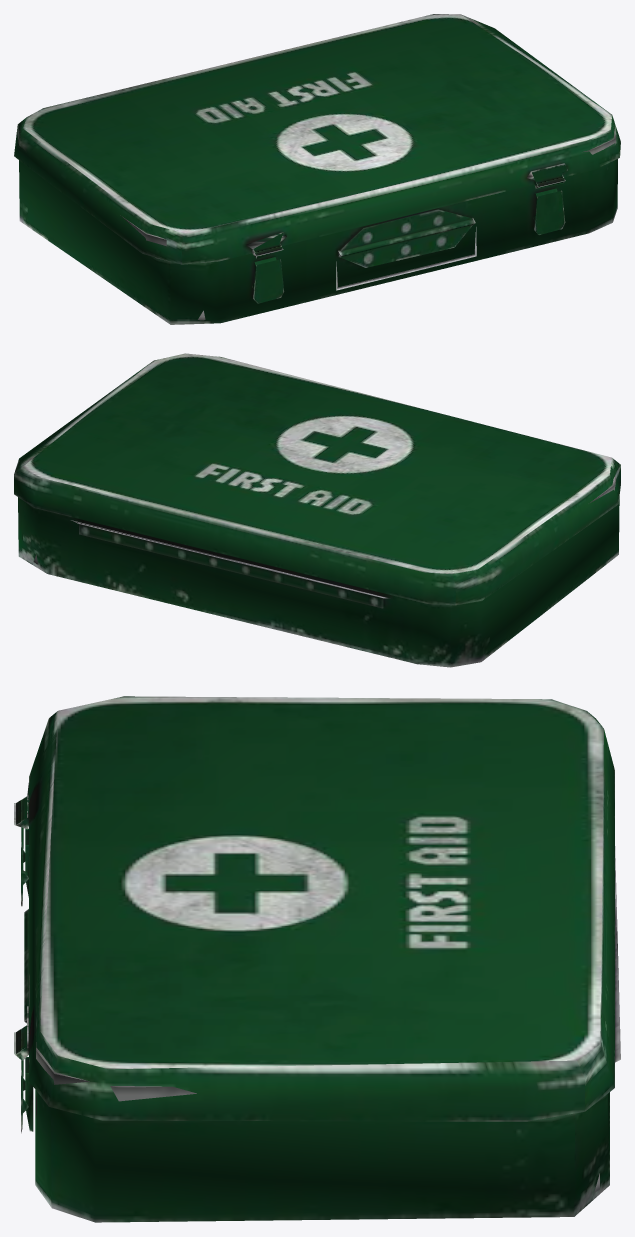
The model's file is medbox.glb.
3 renders of one model, top to bottom at view 1: azimuth 30°, elevation 25°; view 2: azimuth 150°, elevation 25°; view 3: azimuth 270°, elevation 25°, orthographic. The views are drawn at different scales.
Parts seen in each view (by area): view 1: medical_box_latch; view 2: medical_box_latch; view 3: medical_box_latch.
Boxes of the visible parts, <box> form: medical_box_latch: <box>14,14,620,324</box>; medical_box_latch: <box>14,353,620,667</box>; medical_box_latch: <box>14,696,620,1222</box>.
Size of the model in its own units: 0.5255 by 0.0967 by 0.3497.
Materials: 1 (1 with a texture image).
